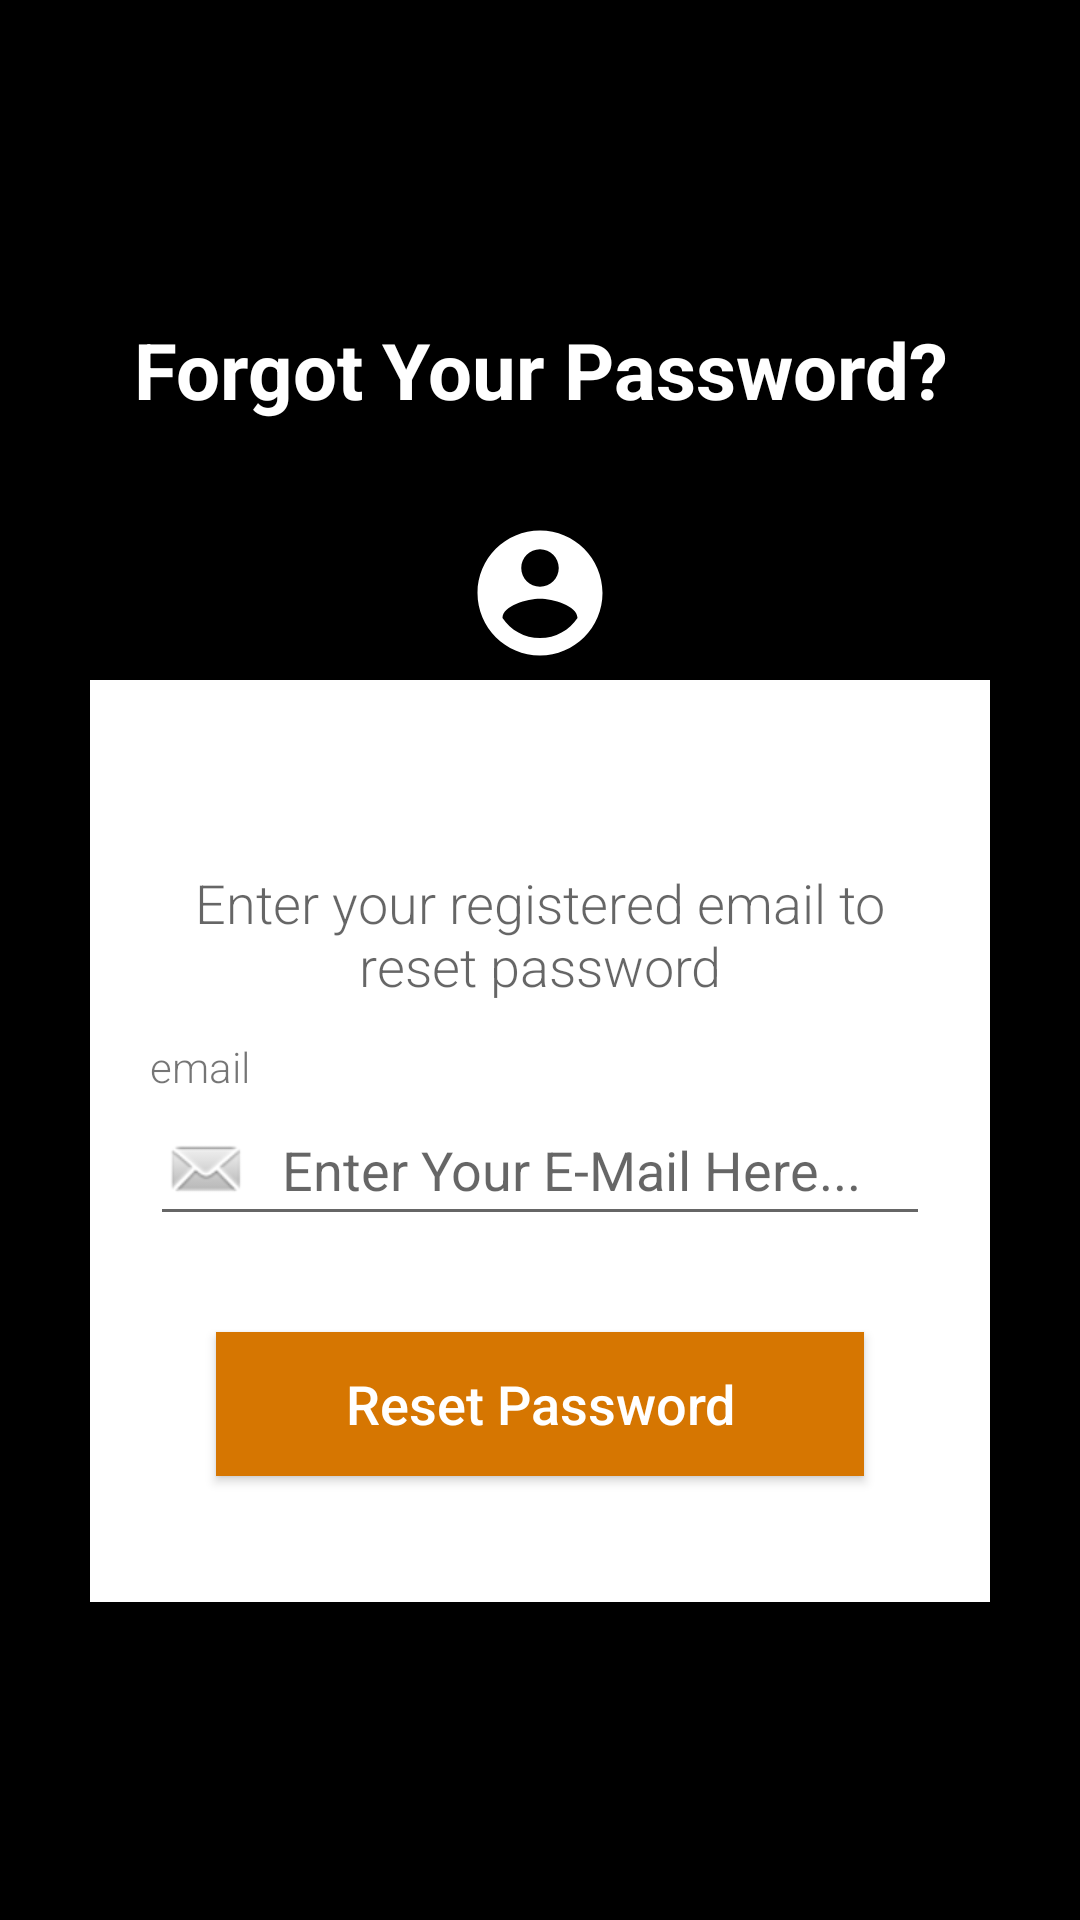

Screen size 1080w x 1920h. Icon name, then its box in pixels as [left=x1, top=y1, right=x2, bottom=y2]:
account circle: [left=477, top=530, right=603, bottom=656]
